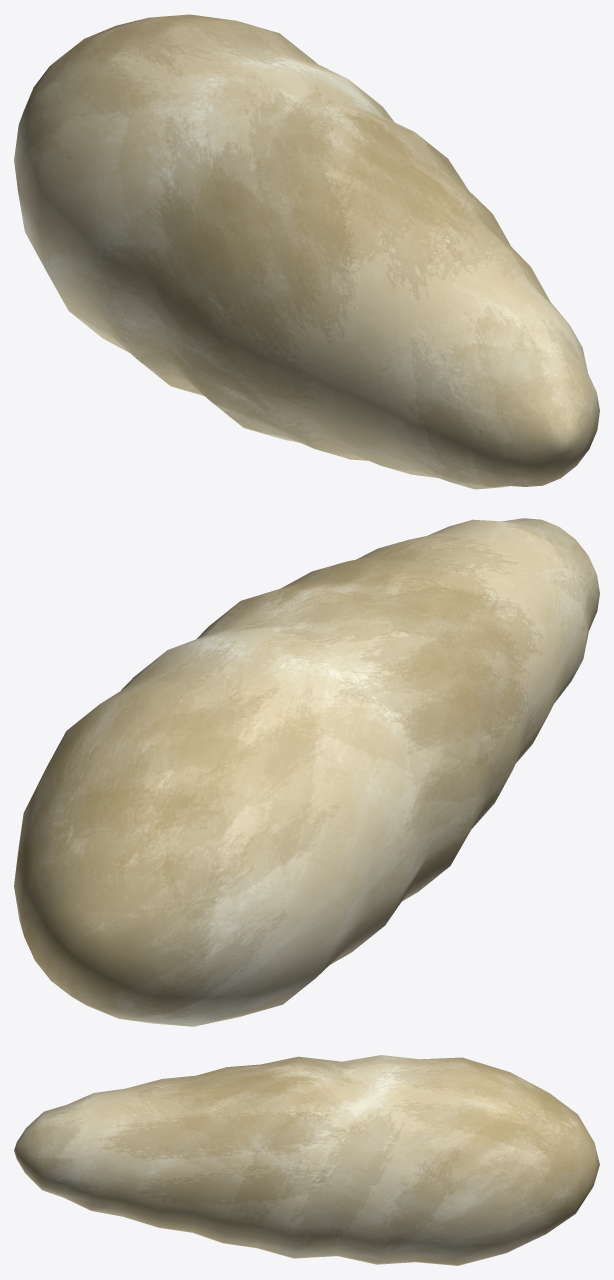
File: egg.fbx
3 renders of one model, top to bottom at view 1: azimuth 30°, elevation 25°; view 2: azimuth 150°, elevation 25°; view 3: azimuth 270°, elevation 25°, orthographic. The views are drawn at different scales.
Visible parts, largest first — view 1: pSphere1; view 2: pSphere1; view 3: pSphere1.
Boxes of the visible parts, bbox=[...] form: pSphere1: bbox=[14, 14, 599, 489]; pSphere1: bbox=[14, 518, 599, 1026]; pSphere1: bbox=[14, 1055, 599, 1265].
Bounding box in the file's own units: 0.4149 × 0.4177 × 1.15.
Materials: 1 (1 with a texture image).
